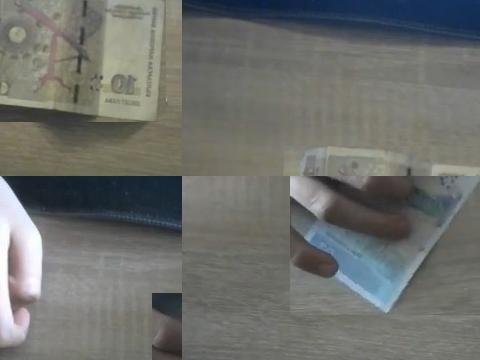20leva: (290, 176, 480, 315)
